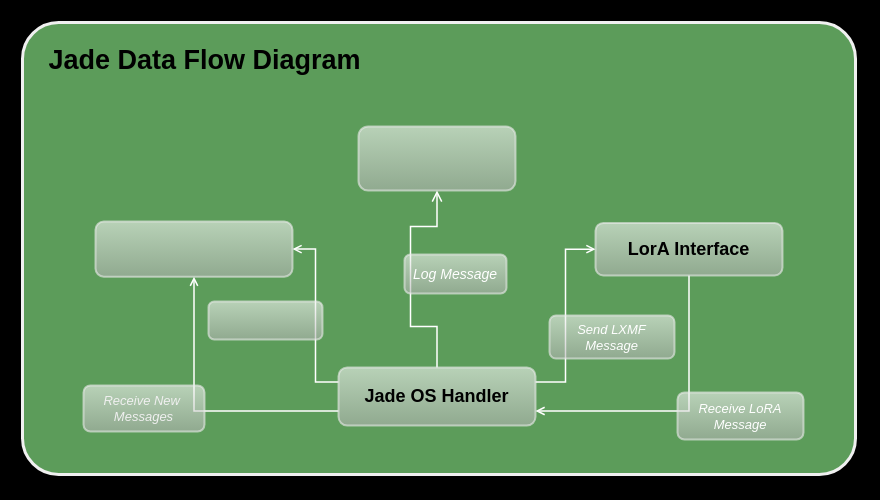
This 880x500 diagram has some shape labels left out. The centre of each missing label's shape, as x and y in pixels:
"Jade HTTP Server" belongs at (x=193, y=248).
"Send Message" belongs at (x=265, y=320).
"SQLite" belongs at (x=436, y=158).
